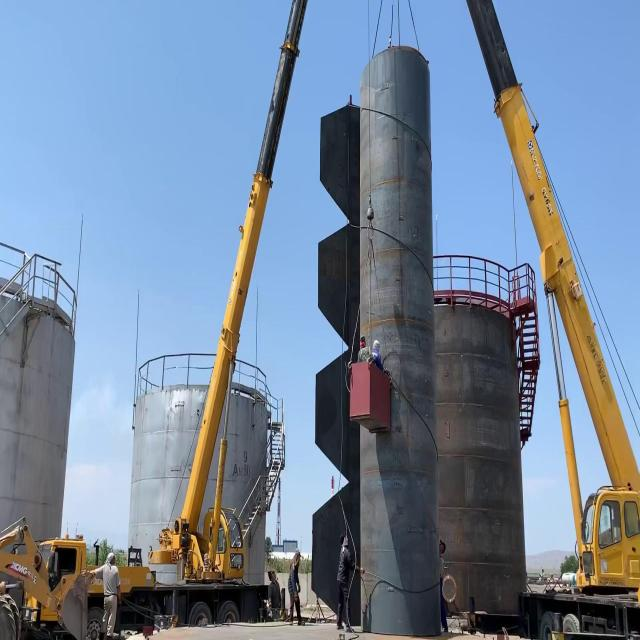crane: (23, 0, 308, 640), (464, 0, 640, 640)
